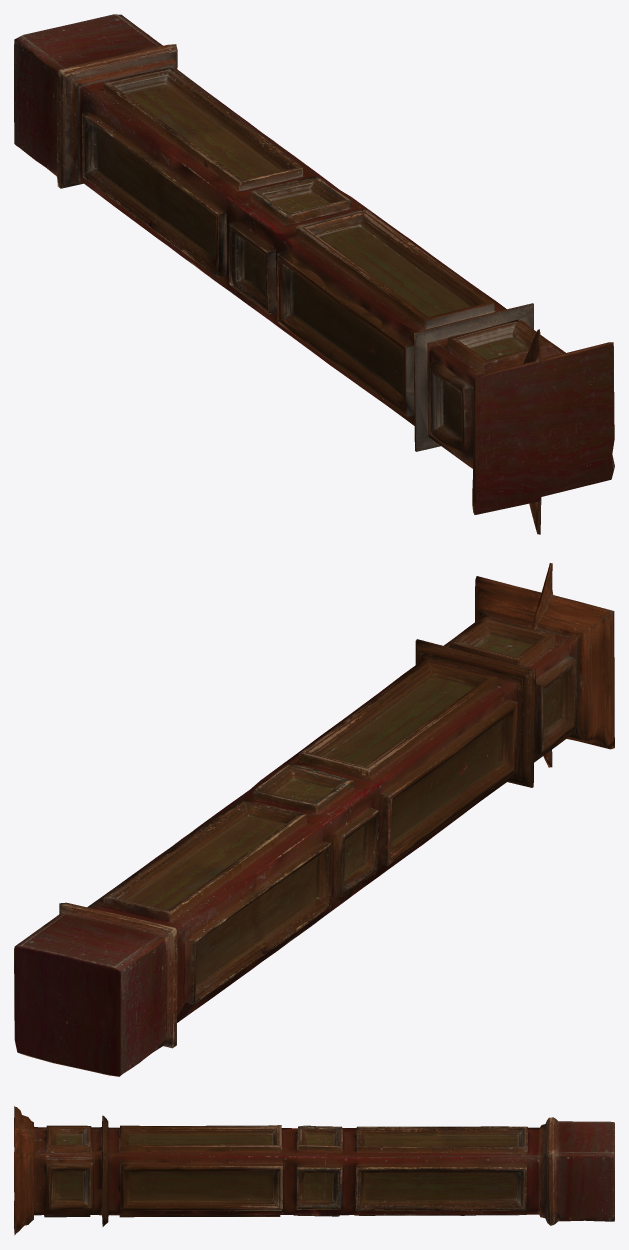
The model's file is WoodPillar.obj.
3 views of the same model, one above another, from view 1: azimuth 30°, elevation 25°; view 2: azimuth 150°, elevation 25°; view 3: azimuth 270°, elevation 25° (orthographic). The views are drawn at different scales.
Parts seen in each view (by area): view 1: vl3ubjqdw_LOD0_TIER2_000; view 2: vl3ubjqdw_LOD0_TIER2_000; view 3: vl3ubjqdw_LOD0_TIER2_000.
Boxes of the visible parts, x1,y1,x2,y2 form: vl3ubjqdw_LOD0_TIER2_000: [14, 14, 614, 534]; vl3ubjqdw_LOD0_TIER2_000: [14, 563, 614, 1076]; vl3ubjqdw_LOD0_TIER2_000: [14, 1106, 614, 1235].
Size of the model in its own units: 1.43 by 2 by 8.44.
Materials: 1 (1 with a texture image).
